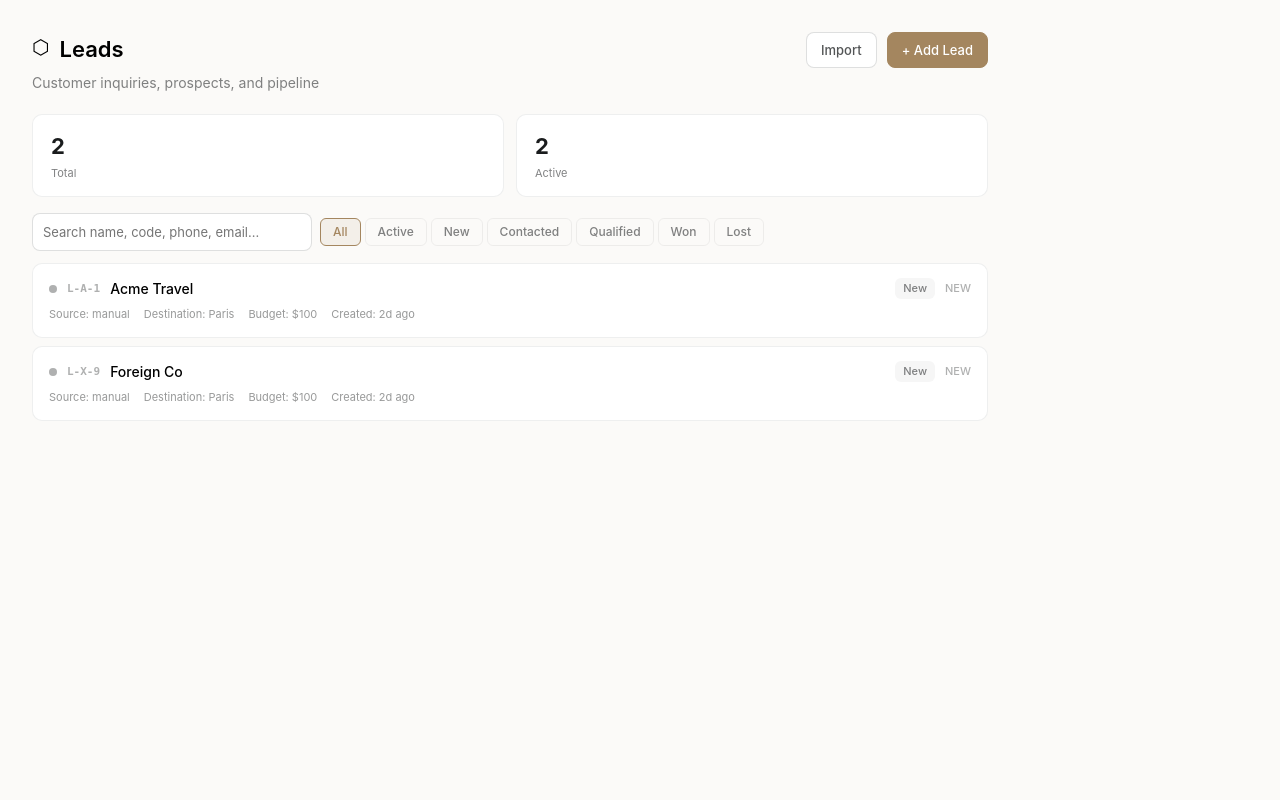
Test: LeadManagement (ZG-03 B1) › opens detail + history, and a 404 surfaces as not-available (no leak, no crash)
Click the text "Acme Travel": (152, 289) [110,280,193,297]
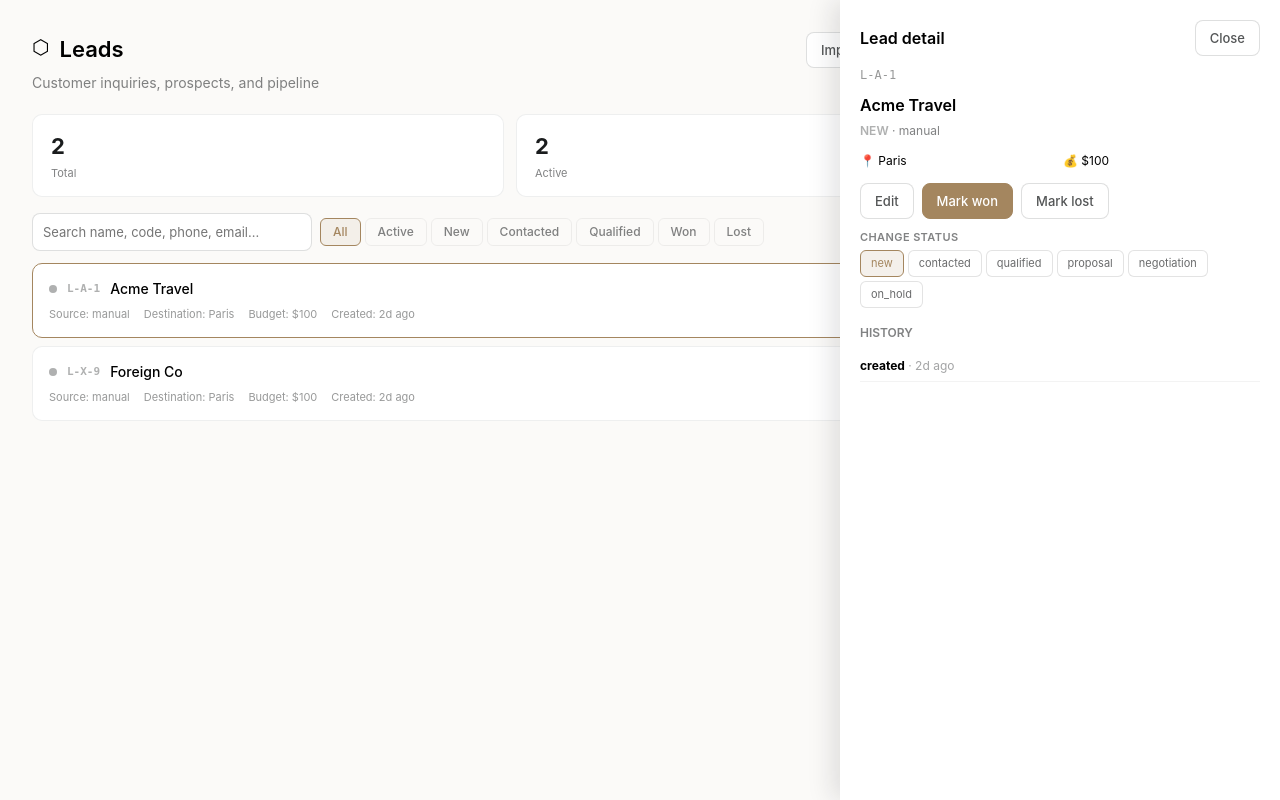
Expected: the heading "Lead detail" is shown, [860,28,945,48]
Expected: the heading "History" is shown, [860,325,913,340]
Note: Close, then open the foreign lead → 404 path
Click the button "Close": (1227, 38) [1195,20,1260,56]
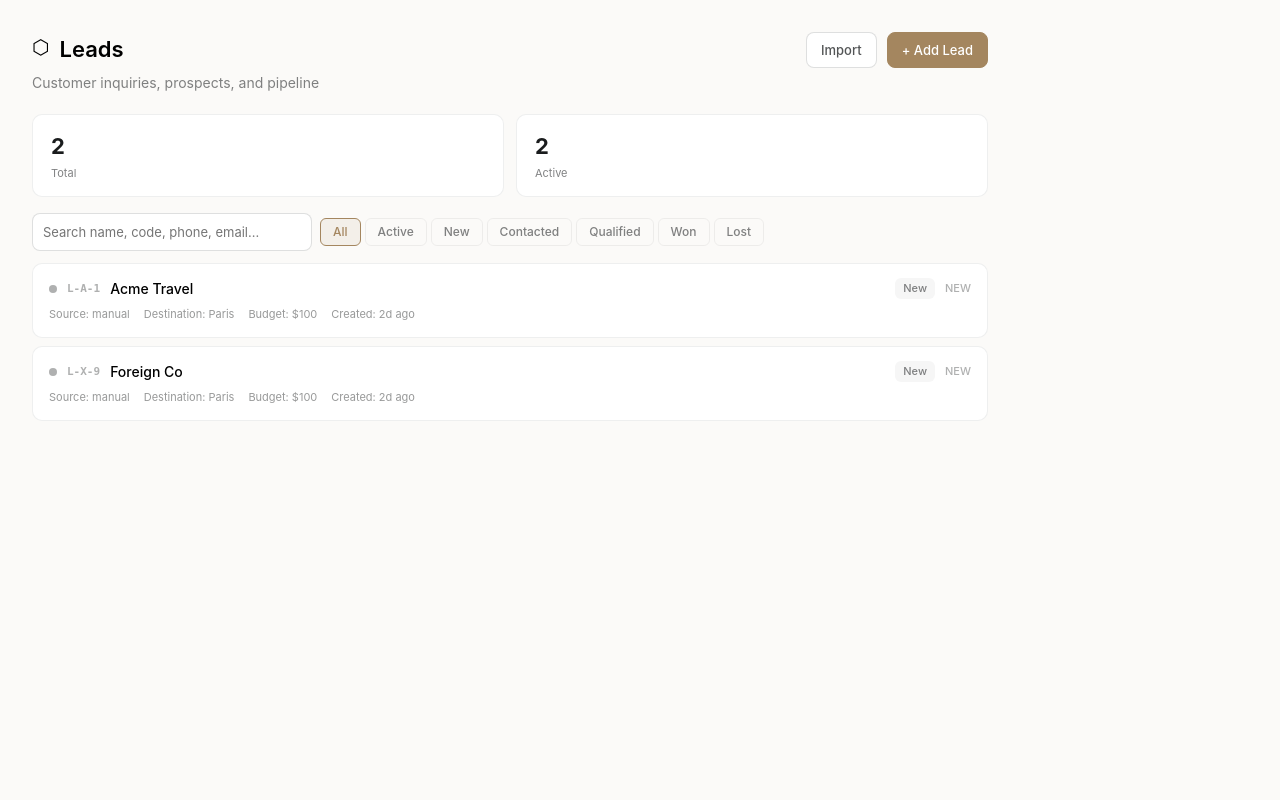
Click the text "Foreign Co": (146, 371) [110,363,183,380]
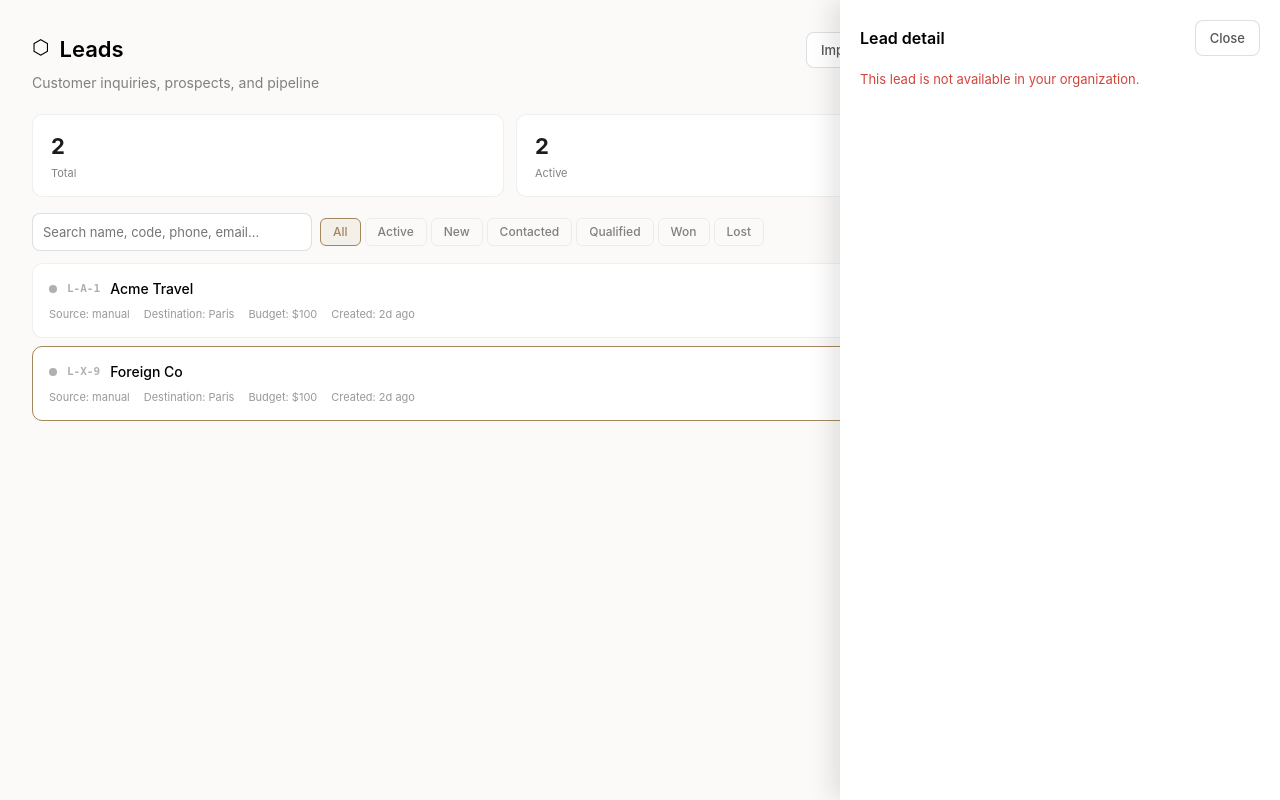
Expected: the text "This lead is not available in your organization." is shown, [860,71,1139,87]
